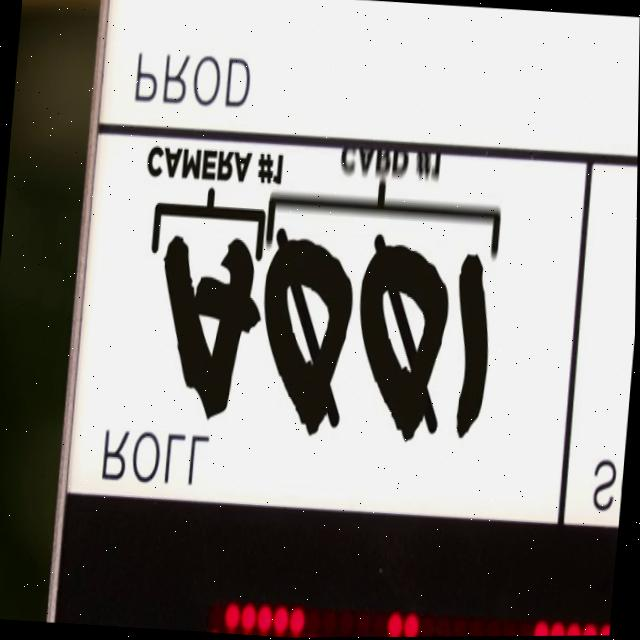Clapperboard: (44, 0, 640, 640)
